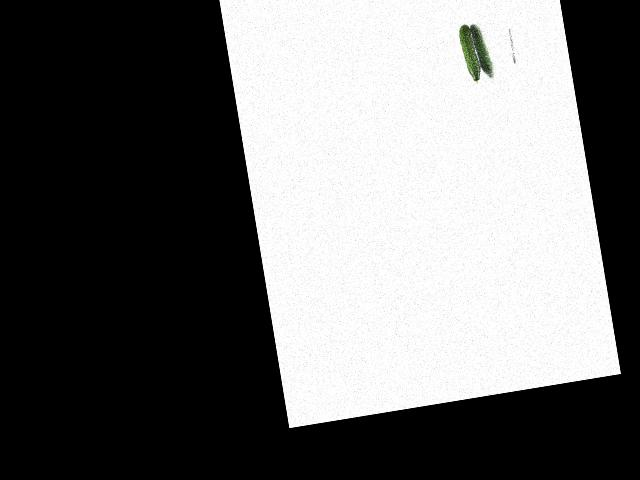cucumber: (457, 23, 483, 84)
